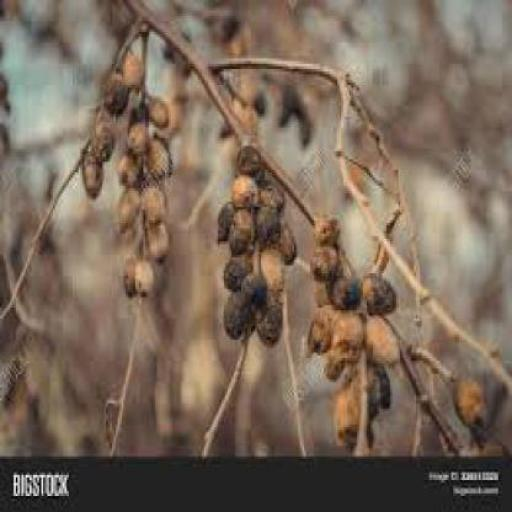biodegradable: (331, 369, 359, 451), (451, 371, 487, 433), (361, 310, 400, 358), (322, 270, 360, 311), (328, 310, 360, 358), (302, 300, 336, 345), (250, 241, 282, 287), (223, 289, 253, 337), (359, 270, 394, 311), (224, 204, 250, 258), (253, 294, 281, 342), (114, 183, 140, 233), (294, 85, 318, 135), (309, 238, 338, 279), (145, 133, 171, 177), (237, 268, 263, 308), (138, 183, 164, 223), (226, 13, 249, 58), (117, 46, 141, 88), (102, 70, 126, 112), (83, 144, 102, 196), (249, 202, 275, 239), (144, 218, 166, 260), (370, 358, 389, 406), (224, 255, 250, 289), (235, 140, 261, 172), (277, 217, 294, 265), (133, 252, 151, 297), (116, 148, 139, 183), (214, 196, 233, 238), (90, 120, 112, 156), (276, 74, 292, 122), (229, 175, 253, 207), (120, 249, 136, 297), (254, 181, 280, 209), (144, 93, 166, 125), (312, 210, 338, 236), (242, 77, 264, 106), (126, 120, 145, 152), (321, 347, 340, 377), (126, 100, 145, 125), (251, 165, 265, 186)
